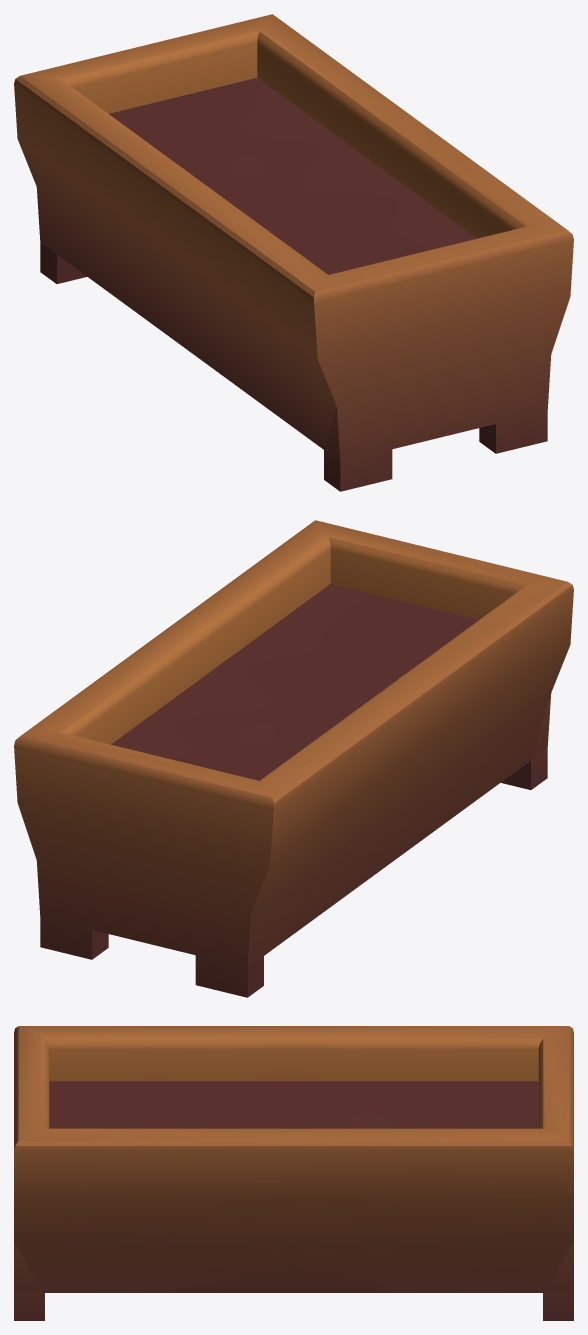
The model's file is plant_pot_mat.fbx.
The picture shows the model from 3 angles, top to bottom: view 1: azimuth 30°, elevation 25°; view 2: azimuth 150°, elevation 25°; view 3: azimuth 270°, elevation 25°; orthographic projection. The views are drawn at different scales.
Visible parts, largest first — view 1: Pot; view 2: Pot; view 3: Pot.
Boxes of the visible parts, bbox=[...] form: Pot: bbox=[14, 14, 573, 491]; Pot: bbox=[14, 520, 573, 997]; Pot: bbox=[14, 1026, 573, 1320].
Size of the model in its own units: 100 by 75.38 by 200.
1 material, 1 textured.
